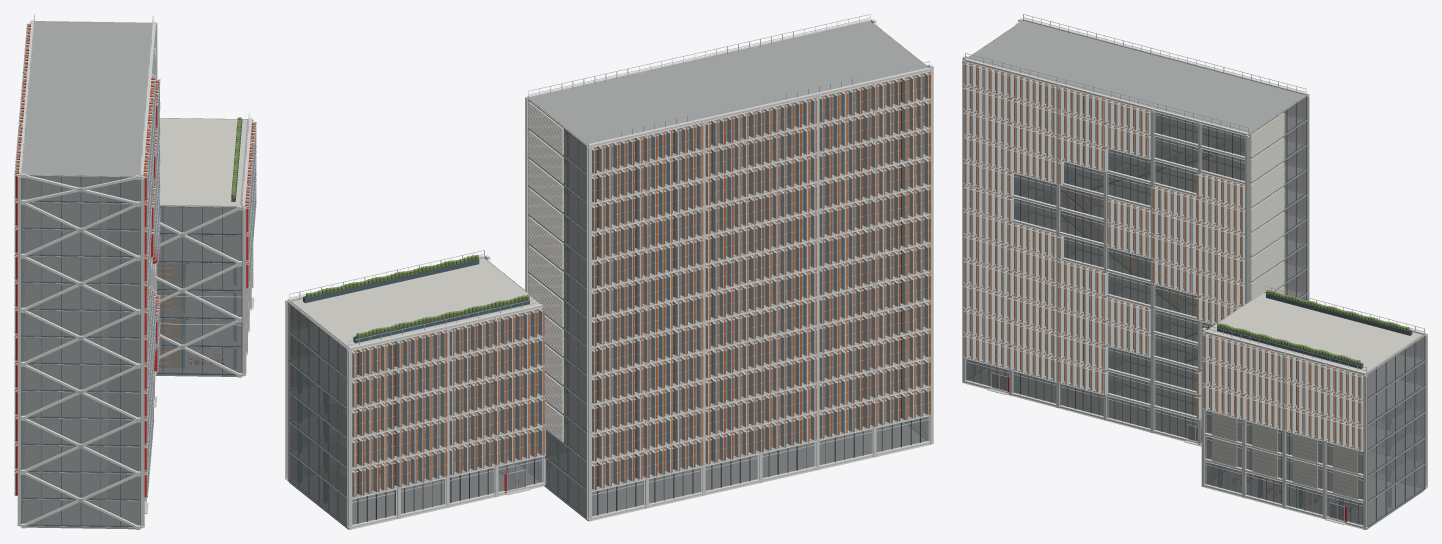
Rendered from cbg-exterior-ecdac52ce5bf.glb.
3 renders of one model, left to right at view 1: azimuth 30°, elevation 25°; view 2: azimuth 150°, elevation 25°; view 3: azimuth 270°, elevation 25°, orthographic. The views are drawn at different scales.
Parts seen in each view (by area): view 1: CBG.001; view 2: CBG.001; view 3: CBG.001.
Boxes of the visible parts, box(x1,y1,x2,y2) form: CBG.001: box(14, 14, 256, 529); CBG.001: box(285, 14, 933, 529); CBG.001: box(962, 14, 1427, 529).
Size of the model in its own units: 66.1 by 53.56 by 68.49.
